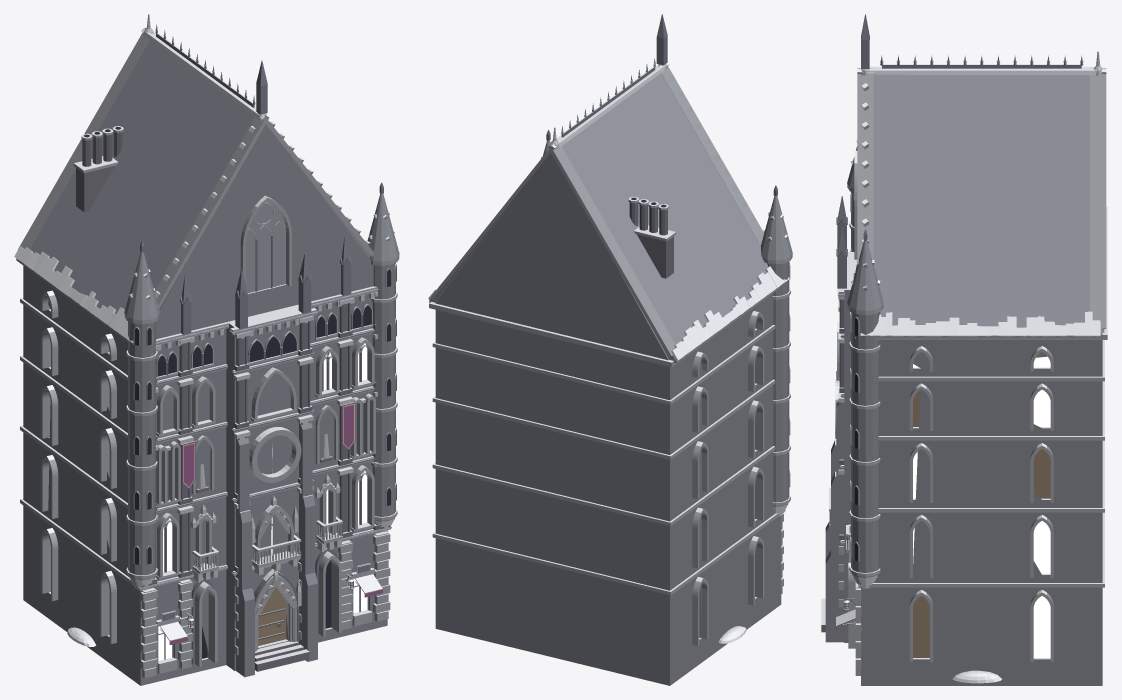
Rendered from AR_Cidade_Palacete.fbx.
3 views of the same model, side by side, from view 1: azimuth 30°, elevation 25°; view 2: azimuth 150°, elevation 25°; view 3: azimuth 270°, elevation 25° (orthographic). The views are drawn at different scales.
Visible parts, largest first — view 1: AR_Cidade_Palacete; view 2: AR_Cidade_Palacete; view 3: AR_Cidade_Palacete.
Boxes of the visible parts, bbox=[...] form: AR_Cidade_Palacete: bbox=[14, 14, 399, 685]; AR_Cidade_Palacete: bbox=[428, 14, 792, 685]; AR_Cidade_Palacete: bbox=[821, 14, 1107, 685].
Bounding box in the file's own units: 18.67 × 39.04 × 16.61.
